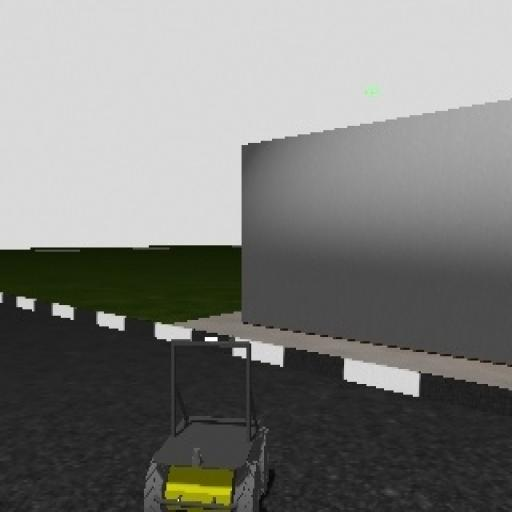huskya200: (139, 311, 272, 512)
